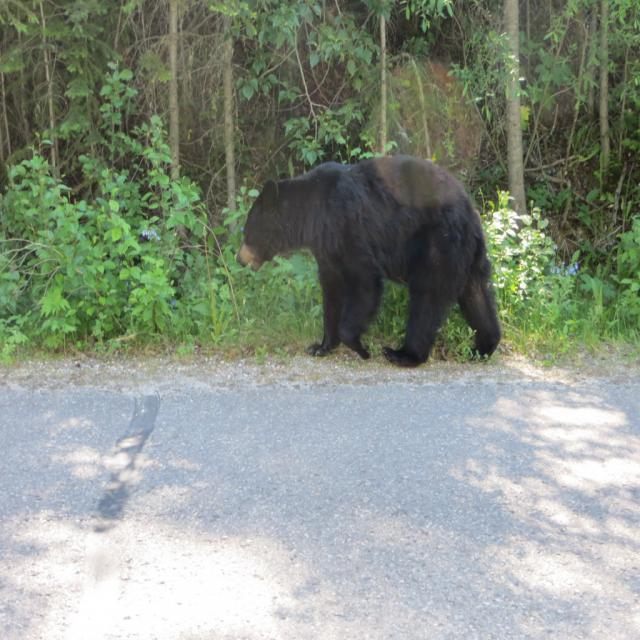Bear: (236, 155, 502, 368)
